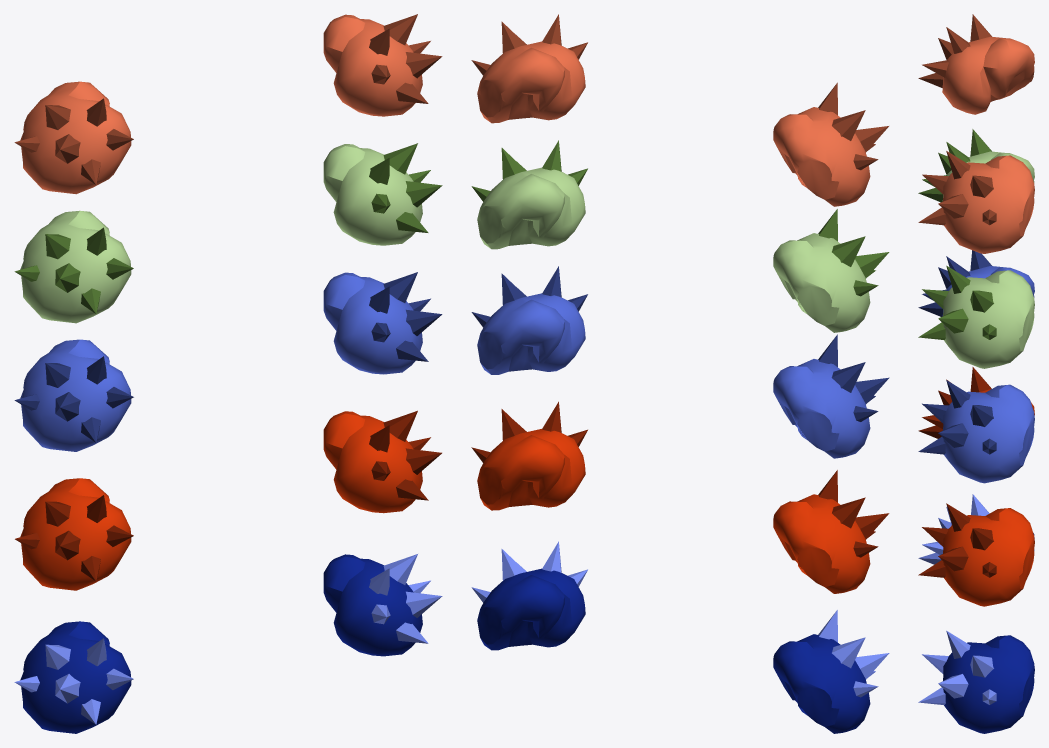
Rendered from SpikyPunchfbx.fbx.
3 views of the same model, side by side, from view 1: azimuth 30°, elevation 25°; view 2: azimuth 150°, elevation 25°; view 3: azimuth 270°, elevation 25° (orthographic). The views are drawn at different scales.
Visible parts, largest first — view 1: R_Punch.005, R_Punch.014, R_Punch.010, R_Punch.008, R_Punch.012, R_Punch.006, R_Punch.009, R_Punch.015, R_Punch.011, R_Punch.013; view 2: R_Punch.011, R_Punch.015, R_Punch.006, R_Punch.009, R_Punch.013, R_Punch.008, R_Punch.005, R_Punch.012, R_Punch.014, R_Punch.010; view 3: R_Punch.011, R_Punch.006, R_Punch.009, R_Punch.015, R_Punch.013, R_Punch.014, R_Punch.012, R_Punch.010, R_Punch.008, R_Punch.005.
Part boxes in pixels (<box>): R_Punch.005: <box>14,621,133,733</box>; R_Punch.014: <box>14,81,133,194</box>; R_Punch.010: <box>14,339,133,451</box>; R_Punch.008: <box>15,478,133,590</box>; R_Punch.012: <box>14,210,133,323</box>; R_Punch.006: <box>323,554,442,656</box>; R_Punch.009: <box>323,410,441,513</box>; R_Punch.015: <box>323,14,442,116</box>; R_Punch.011: <box>323,272,442,374</box>; R_Punch.013: <box>323,143,442,245</box>; R_Punch.011: <box>471,266,587,374</box>; R_Punch.015: <box>471,14,587,123</box>; R_Punch.006: <box>471,541,587,650</box>; R_Punch.009: <box>471,401,587,510</box>; R_Punch.013: <box>471,140,587,249</box>; R_Punch.008: <box>773,470,889,593</box>; R_Punch.005: <box>773,610,889,733</box>; R_Punch.012: <box>773,209,889,332</box>; R_Punch.014: <box>773,82,888,206</box>; R_Punch.010: <box>773,334,889,458</box>; R_Punch.011: <box>918,380,1034,483</box>; R_Punch.006: <box>918,630,1034,733</box>; R_Punch.009: <box>918,503,1034,606</box>; R_Punch.015: <box>918,151,1034,253</box>; R_Punch.013: <box>918,265,1034,368</box>; R_Punch.014: <box>918,14,1034,114</box>; R_Punch.012: <box>918,129,1034,202</box>; R_Punch.010: <box>918,250,1034,316</box>; R_Punch.008: <box>918,367,1034,438</box>; R_Punch.005: <box>918,494,1034,564</box>.
Bounding box in the file's own units: 8.38 × 12.28 × 2.29.
